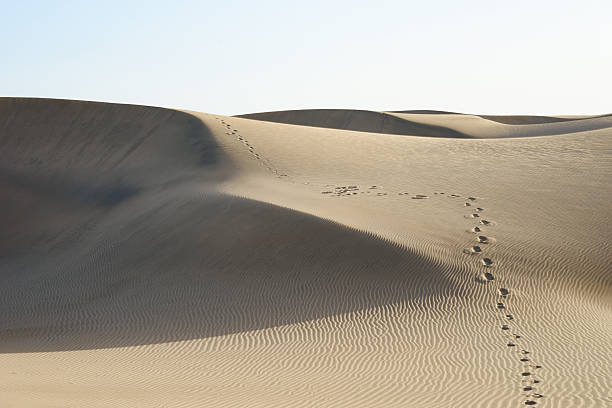human_foot_print: (460, 196, 524, 352), (496, 286, 542, 405), (215, 117, 286, 177)
